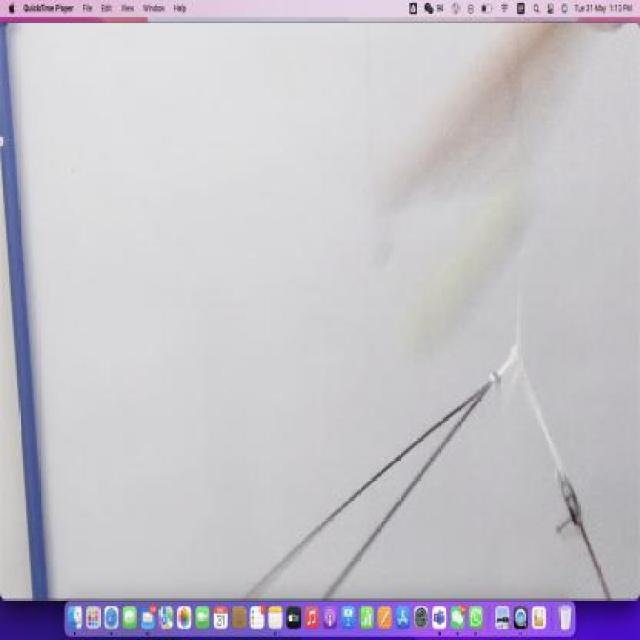baseball: (412, 189, 542, 357)
